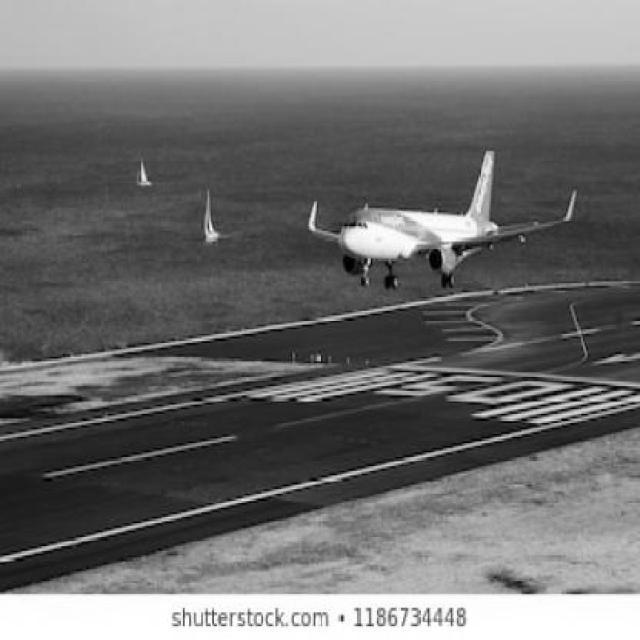aeroplane: (296, 142, 582, 293)
